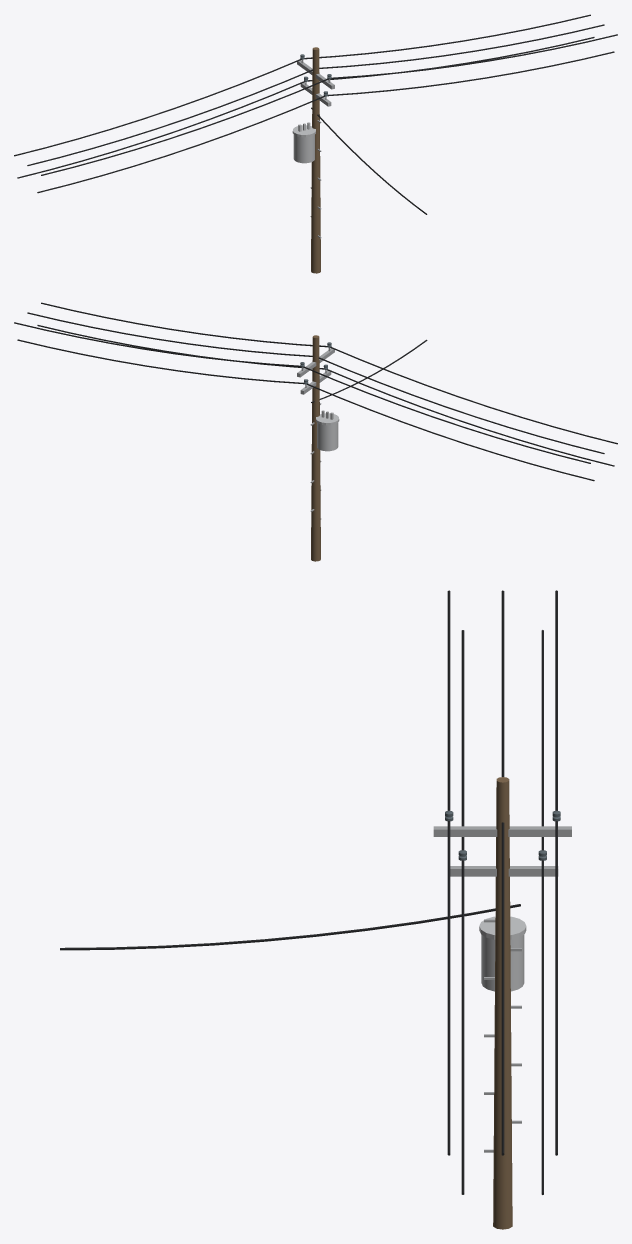
The model's file is city_pole_t.fbx.
3 renders of one model, top to bottom at view 1: azimuth 30°, elevation 25°; view 2: azimuth 150°, elevation 25°; view 3: azimuth 270°, elevation 25°, orthographic. The views are drawn at different scales.
Visible parts, largest first — view 1: rubber_1, timber_1, alu_1, galv_1; view 2: rubber_1, timber_1, alu_1, galv_1; view 3: rubber_1, timber_1, galv_1, alu_1.
Part boxes in pixels (x1,y1,x2,y2): rubber_1: (14,14,617,214); timber_1: (311,47,320,273); alu_1: (292,122,315,163); galv_1: (297,59,334,238); rubber_1: (14,302,617,481); timber_1: (311,335,320,561); alu_1: (316,410,339,451); galv_1: (297,347,334,519); rubber_1: (60,590,557,1194); timber_1: (493,777,512,1229); galv_1: (433,826,571,1152); alu_1: (479,916,526,991).
Size of the model in its own units: 2.6 by 0.96 by 1.
